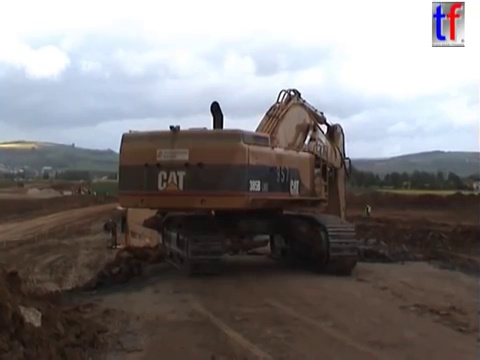excavator: (114, 85, 361, 277), (70, 182, 97, 199)
truck: (101, 202, 272, 279), (16, 179, 26, 189)
worker: (363, 202, 374, 220)
